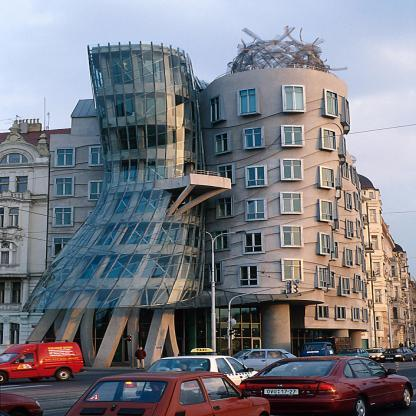Balcony: (199, 64, 339, 93), (174, 170, 230, 179)
Building Outline: (14, 24, 369, 368)
Deco: (225, 25, 348, 75)
Door: (123, 338, 184, 363), (173, 168, 184, 182)
Facade: (15, 24, 351, 369)
Glass Wall: (47, 298, 262, 363)
Pillar: (15, 291, 75, 361), (47, 291, 100, 366), (93, 289, 143, 368), (141, 290, 183, 367), (260, 302, 290, 360)
Roof: (70, 99, 97, 118)
Window: (285, 86, 303, 110), (240, 89, 256, 114), (247, 166, 265, 186), (247, 199, 265, 219), (284, 260, 302, 280), (245, 232, 262, 252), (283, 227, 301, 245), (283, 194, 301, 212), (283, 160, 301, 178), (284, 127, 302, 145), (240, 266, 257, 285), (326, 90, 338, 116), (245, 128, 261, 147), (54, 238, 71, 255), (54, 208, 71, 225), (55, 178, 72, 195), (52, 269, 70, 285), (218, 197, 232, 217), (57, 149, 73, 166), (219, 165, 232, 184), (215, 230, 227, 250), (323, 129, 335, 149), (90, 182, 104, 199), (322, 168, 334, 187), (91, 148, 105, 164), (211, 96, 219, 122), (217, 133, 227, 153), (210, 263, 220, 282), (322, 201, 332, 220), (322, 234, 330, 254), (319, 267, 326, 287), (346, 99, 349, 125)
